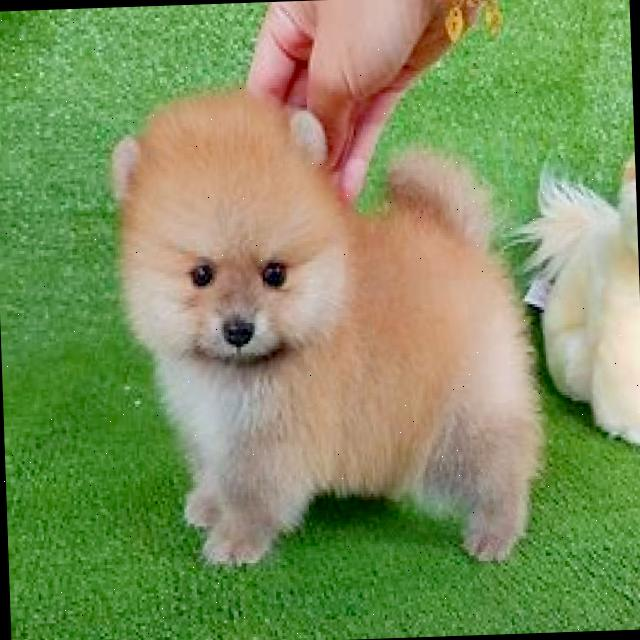pomeranian_dog: (100, 73, 362, 390)
